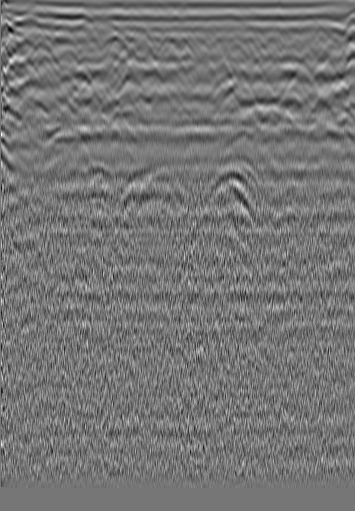가스: (79, 157, 123, 188)
상수: (304, 34, 324, 54)
오수: (40, 28, 60, 48)
우수: (184, 28, 204, 48)
